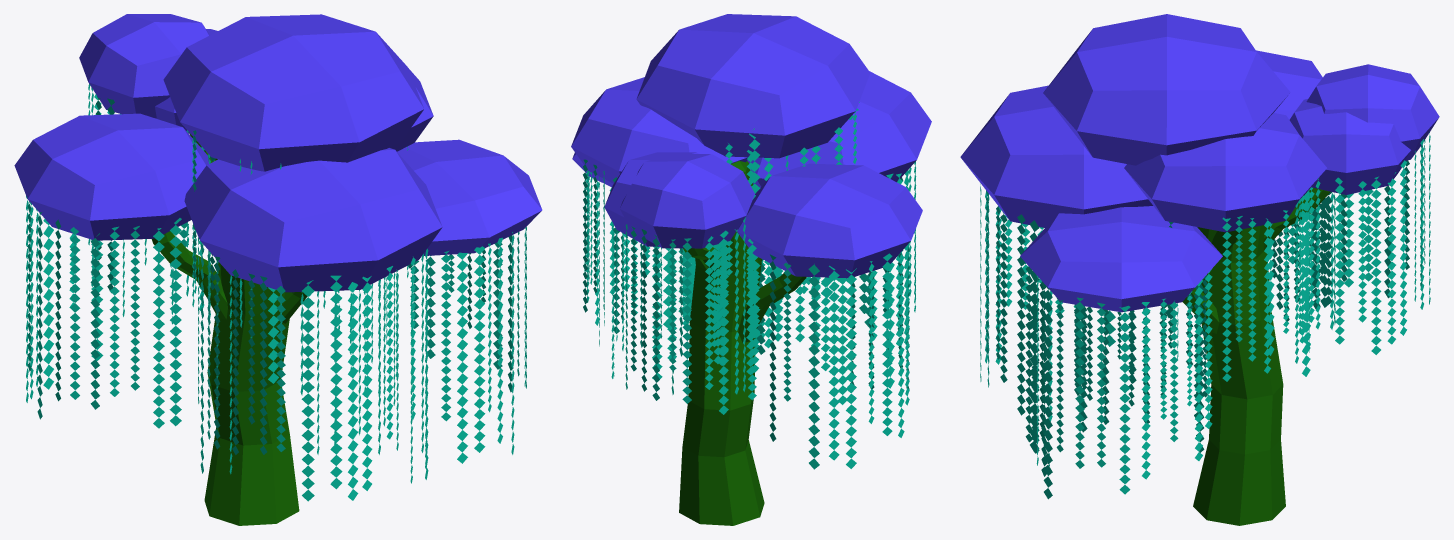
File: Arbre 2.fbx
The picture shows the model from 3 angles, left to right: view 1: azimuth 30°, elevation 25°; view 2: azimuth 150°, elevation 25°; view 3: azimuth 270°, elevation 25°; orthographic projection. The views are drawn at different scales.
Parts seen in each view (by area): view 1: Cube, Plane.104, Circle; view 2: Cube, Plane.104, Circle; view 3: Cube, Plane.104, Circle.
Part boxes in pixels (x1,y1,x2,y2): Cube: (14, 14, 542, 292); Plane.104: (26, 84, 526, 501); Circle: (151, 134, 307, 525); Cube: (571, 14, 931, 278); Plane.104: (583, 102, 916, 469); Circle: (679, 161, 806, 525); Cube: (960, 14, 1439, 312); Plane.104: (980, 132, 1430, 499); Circle: (1182, 188, 1330, 525).
Bounding box in the file's own units: 1310 × 1443 × 1331.
